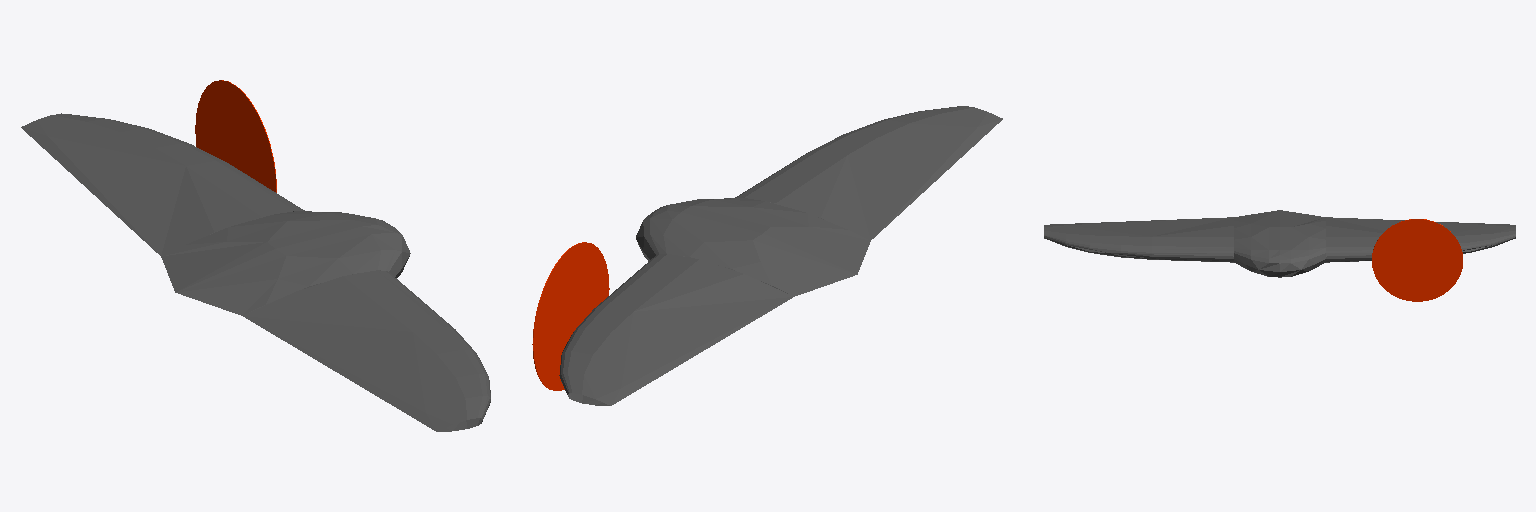
URDF robot description (VTOL):
<?xml version="1.0" ?>

<robot name="VTOL">

  <material name="white">
    <color rgba="1. 1. 1. 1.0"/>
  </material>

  <material name="black">
    <color rgba="0. 0. 0. 1.0"/>
  </material>

  <material name="blue0">
    <color rgba="15./255. 141./255. 238./255. 1.0"/>
  </material>

  <material name="darkgrey">
    <color rgba="0.4 0.4 0.4 1.0"/>
  </material>

  <material name="blue1">
    <color rgba="0.06 0.46 0.9 0.6"/>
  </material>

  <material name="orange_red">
    <color rgba="1 0.25 0 0.4"/>
  </material>

  <configuration type="winged_vtol_physics"/>


  <properties arm="0.0635" kf="2.0e-8" km="2.74e-10" thrust2weight="2" max_speed_kmh="30" gnd_eff_coeff="11.36859" prop_radius="3.31348e-2" drag_coeff_xy="9.1785e-7" drag_coeff_z="10.311e-7" dw_coeff_1="2267.18" dw_coeff_2=".16" dw_coeff_3="-.11"/>

  <control>
    <indi actuator_nr="4" output_nr="4" />
    <indi_1 roll="   20.  0.0  0.0  0.0" />
    <indi_2 pitch="  0.0   0.0  -10.   0.0" />
    <indi_3 yaw="    0.0   20.   0.0    0.0" />
    <indi_4 thrust=" 0.0   0.0   0.0    25." />

    <indi_guidance_gains>
      <pos kp="1.8" kd="1.8"/>
    </indi_guidance_gains>
    
    <indi_att_gains>
      <att  p="3." q="3." r="5." />
      <rate p="18." q="18." r="10." />
    </indi_att_gains>

    <pwm>
      <pwm2rpm scale="0. 0. 0. 0." const="0. 0. 0. 0." />
      <limit min="-0.5  -0.5  -0.5  0" max="0.5  0.5  0.5  1" />
    </pwm>
  </control>

    <aero_coeffs>
    <ref rho="1.225" alpha0="0.47" Sref="0.55" Bref="2.8956" Cref="0.18994" Vref="14." oswald="0.7" AR="6" M="60" epsilon="0.16" actuator_nr="4"/>
    <CL  CL = "0.5" CL0="0.23"   CL_alpha="5.61" CL_q="7.95"   CL_del_e="0.13"/>
    <CD  CD = "0.2" CD0="0.043"  CD_alpha="0.03"  CD_q="0.0" CD_p="0.0" CD_del_e="0.0135"/>
    <CY  CY0="0.0"   CY_beta="-0.83"  CY_p="0.0" CY_r="0.0"  CY_del_r="0.19" CY_del_a="0.075"/>
    <Cl  Cl_beta="0.13"  Cl_p="-0.51" Cl_r="0.045" Cl_del_a="0.17" Cl_del_r="0.0024"/>
    <Cm  Cm0="0.0135" Cm_alpha=" -2.74" Cm_q="-38.21" Cm_del_e="-0.99"/>
    <Cn  Cn_beta="0.073"  Cn_p="-0.069" Cn_r="-0.095" Cn_del_a="-0.011" Cn_del_r="-0.069"/>
  </aero_coeffs>

  <motor_coeffs>
    <Thrust angle_deg = "5" x_pos = "0" y_pos = "0." z_pos = "0."/>
    <Coeffs C_Q0 = "0.005230" C_Q1 = "0.004970" C_Q2 = "-0.01664" KQ = "0.0658" R_motor = "0.042" i0 = "1.5" KV = "0.0658" C_T0 = "-0.1079" C_T1 = "-0.06044" C_T2 = "0.09357" V_max="44.4" />
    <Prop D_prop = "0.508"/>
  </motor_coeffs>


  <link name="base_link"> 
    <inertial>
      <origin rpy="0 0 0" xyz="0 0 0"/>
      <mass value="10.00"/>
      <inertia ixx="0.8244" ixy="0.0" ixz="0.1204" iyy="1.135" iyz="0.0" izz="1.759"/>
    </inertial>

    <visual>
      <origin rpy="0 0 0" xyz="0 0 0"/>
      <geometry>
        <mesh filename="./darkknight.obj" scale="1. 1. 1."/>
      </geometry> 
      <material name="darkgrey"/>
    </visual>

    <collision>
      <origin rpy="0 0 0" xyz="0 0 0"/>
      <geometry>
        <cylinder radius="0.15" length=".1"/>
        <mesh filename="./darkknight.obj" scale="1. 1. 1."/>
      </geometry>
    </collision>  
  </link>

  <link name="prop0_link">
    <inertial>
      <origin rpy="0 0 0" xyz="0.07 0.3 0"/>
      <mass value="0"/>
      <inertia ixx="0" ixy="0" ixz="0" iyy="0" iyz="0" izz="0"/>
    </inertial>
    <visual>
      <origin rpy="0 1.5708 0" xyz="0.07 0.3 0"/>
      <geometry>
        <cylinder radius="0.10" length=".001"/>
      </geometry>
      <material name="orange_red"/>
    </visual> 
  </link>
  <joint name="prop0_joint" type="fixed">
    <parent link="base_link"/>
    <child link="prop0_link"/>
  </joint>


  <link name="center_of_mass_link">
    <inertial>
      <origin rpy="0 0 0" xyz="0 0 0"/>
      <mass value="0"/>
      <inertia ixx="0" ixy="0" ixz="0" iyy="0" iyz="0" izz="0"/>
    </inertial>
  </link>
  <joint name="center_of_mass_joint" type="fixed">
    <parent link="base_link"/>
    <child link="center_of_mass_link"/>
  </joint>

</robot>

--- What the picture shows (computed from the rendered views, not written in the file) ---
3 views of the same robot in one strip: view 1: azimuth 30°, elevation 25°; view 2: azimuth 150°, elevation 25°; view 3: azimuth 270°, elevation 25° (orthographic).
Robot: VTOL — 3 links, 2 joints (2 fixed); root link base_link; default pose: every joint at zero.
Visible links, largest first — view 1: base_link, prop0_link; view 2: base_link, prop0_link; view 3: base_link, prop0_link.
Boxes of the visible links, box(x1,y1,x2,y2) form: base_link: box(21, 113, 490, 431); prop0_link: box(195, 80, 276, 192); base_link: box(559, 106, 1002, 405); prop0_link: box(532, 242, 609, 390); base_link: box(1044, 210, 1515, 277); prop0_link: box(1372, 219, 1462, 301).
Size in the robot's own frame: 0.3215 by 1.03 by 0.2 metres.
1 mesh visuals loaded from 1 distinct referenced files (1 OBJ).